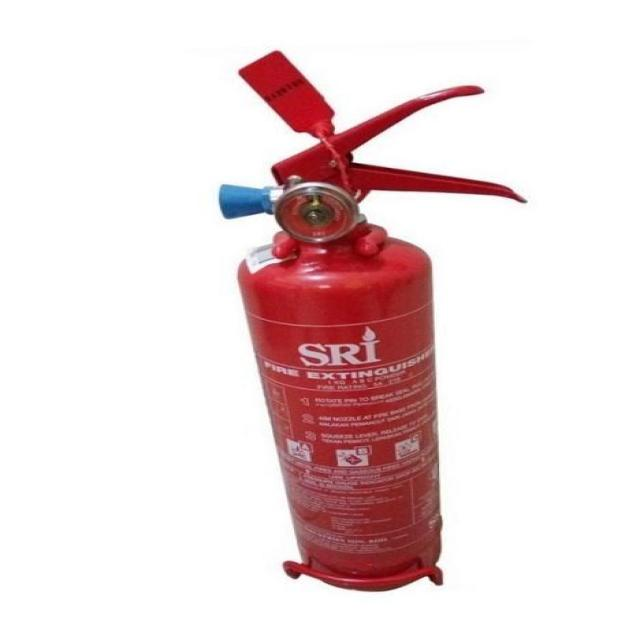fire_extinguisher: (209, 46, 534, 596)
